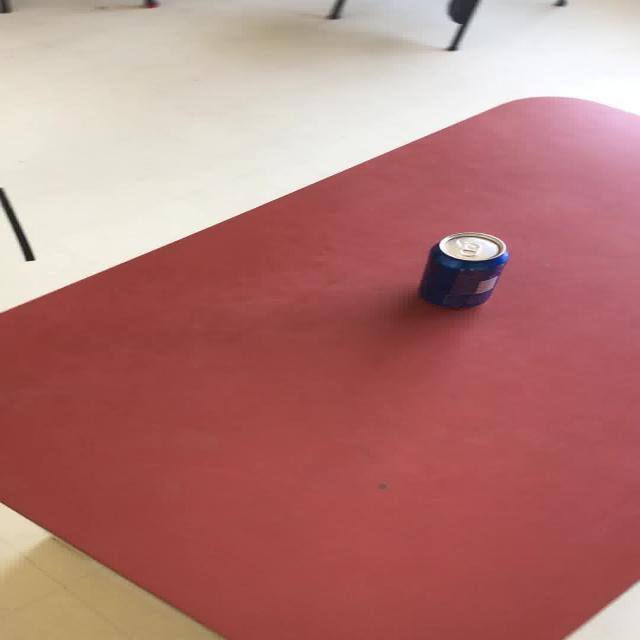tonic: (416, 231, 508, 308)
